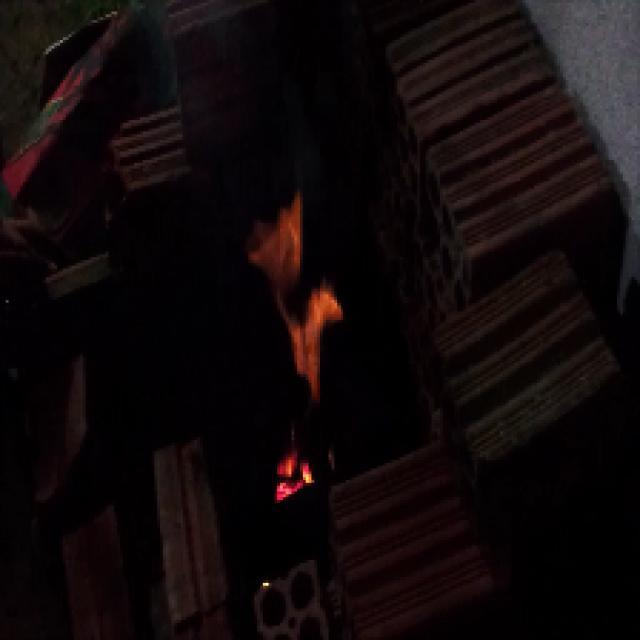Fire: (251, 217, 342, 413)
